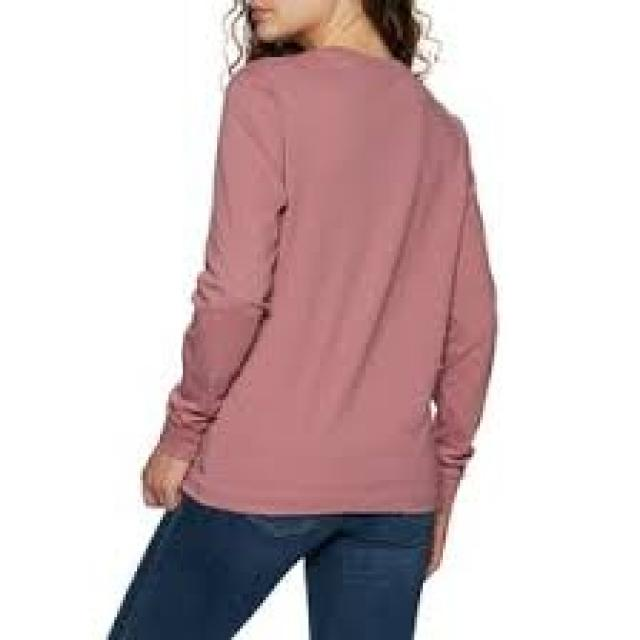plain: (157, 45, 492, 509)
